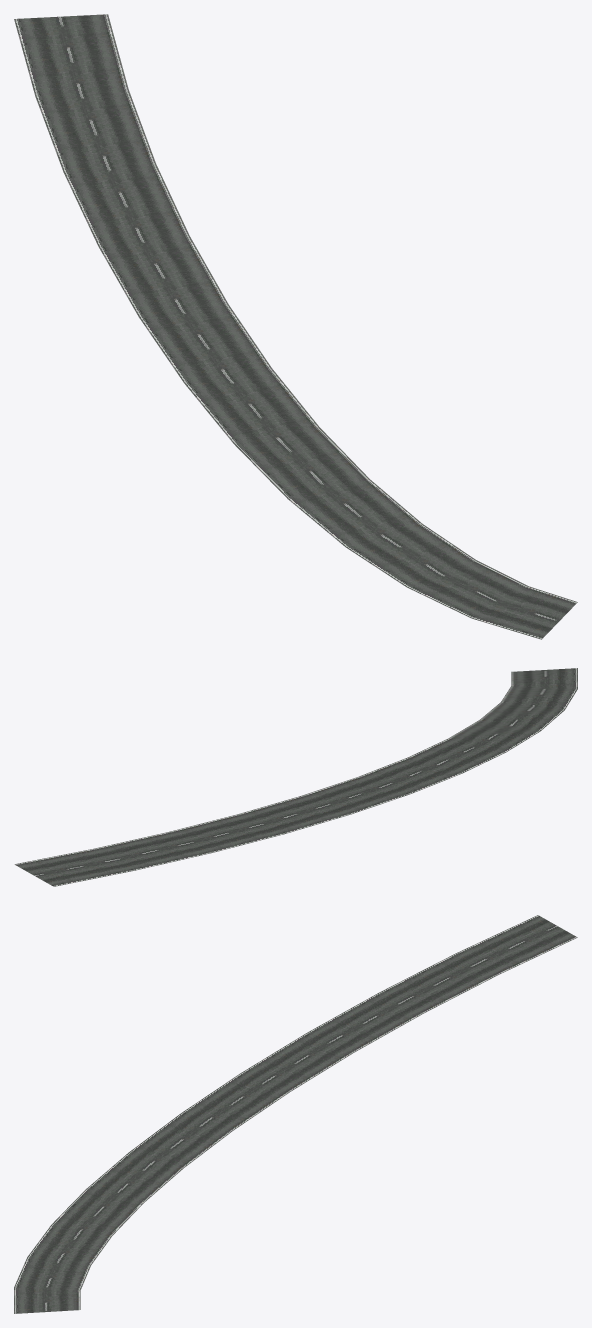
Rendered from lodcuntwroad45.obj.
3 renders of one model, top to bottom at view 1: azimuth 30°, elevation 25°; view 2: azimuth 150°, elevation 25°; view 3: azimuth 330°, elevation 25°, orthographic. The views are drawn at different scales.
Visible parts, largest first — view 1: LODcuntwroad45; view 2: LODcuntwroad45; view 3: LODcuntwroad45.
Part boxes in pixels (x1=…): LODcuntwroad45: x1=14, y1=14, x2=577, y2=639; LODcuntwroad45: x1=14, y1=668, x2=577, y2=886; LODcuntwroad45: x1=14, y1=915, x2=577, y2=1313.
Size of the model in its own units: 38.02 by 17.9 by 161.
1 material, 1 textured.
